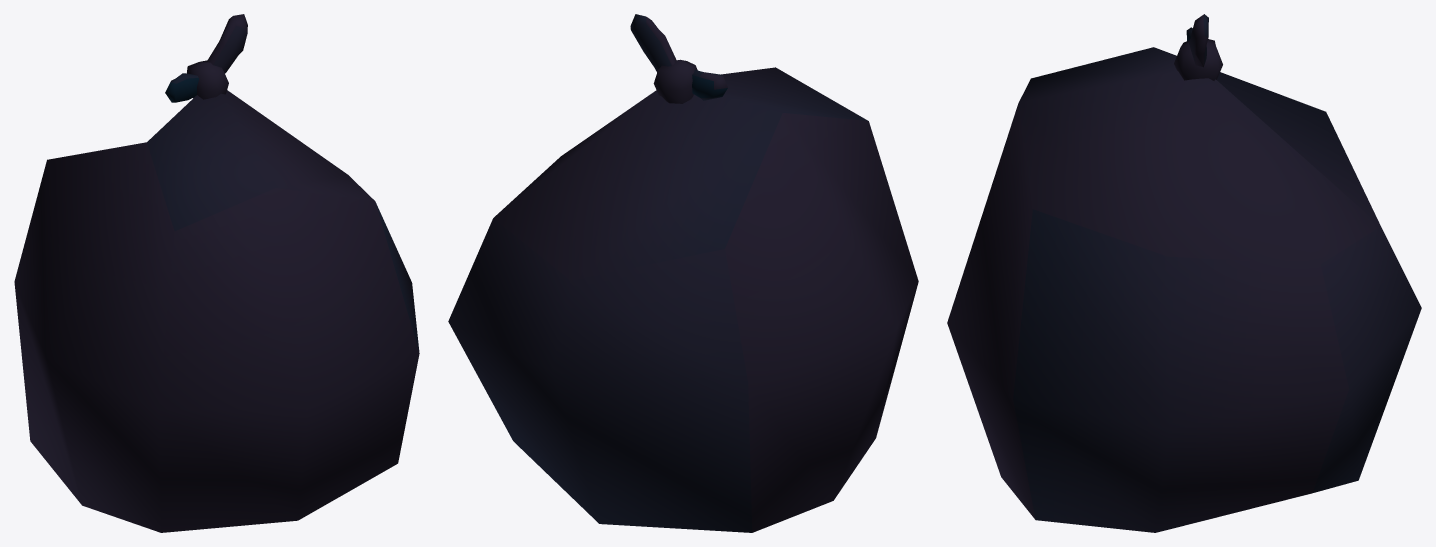
File: LixoPreto.fbx
3 renders of one model, left to right at view 1: azimuth 30°, elevation 25°; view 2: azimuth 150°, elevation 25°; view 3: azimuth 270°, elevation 25°, orthographic. The views are drawn at different scales.
Visible parts, largest first — view 1: Saco_Lixo; view 2: Saco_Lixo; view 3: Saco_Lixo.
Part boxes in pixels (x1,y1,x2,y2): Saco_Lixo: (14,14,419,532); Saco_Lixo: (448,14,918,532); Saco_Lixo: (947,14,1421,532).
Bounding box in the file's own units: 52.35 × 51.41 × 60.17.
